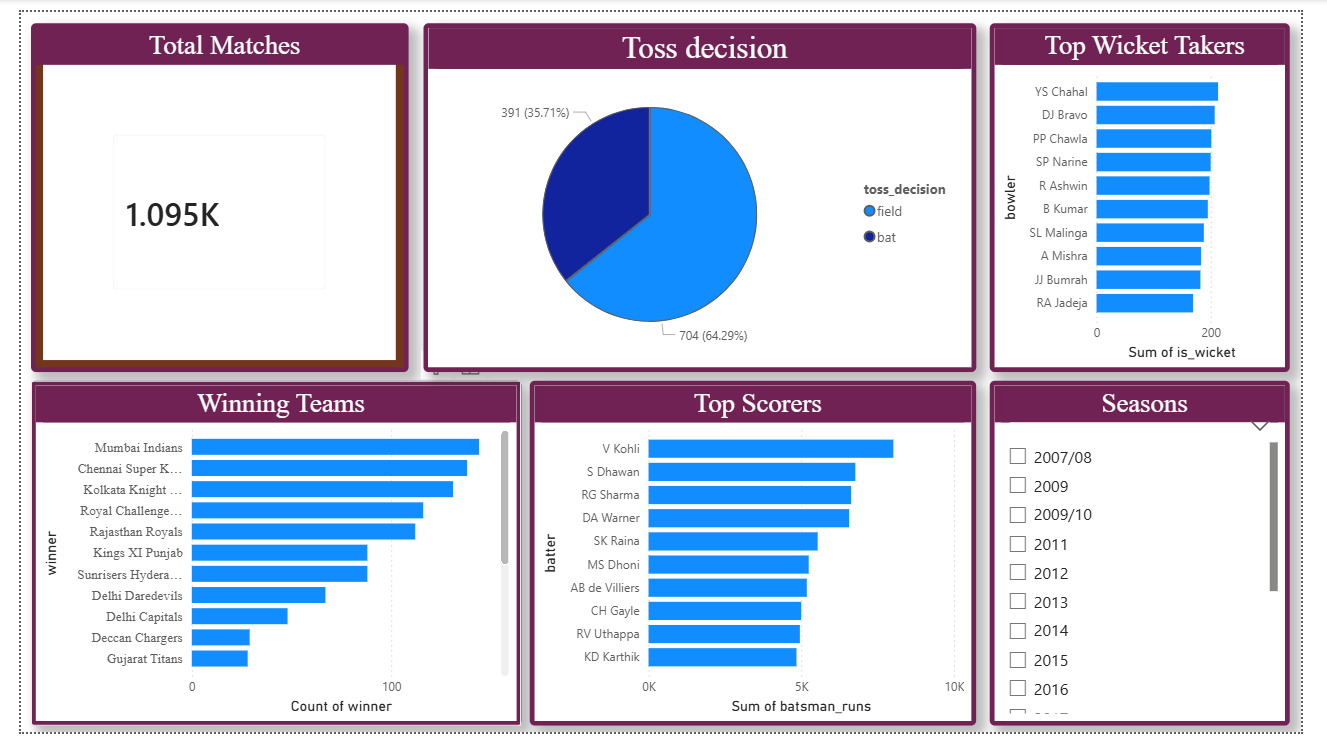

The dashboard page shown, as its layout file describes it:
{"tool":"powerbi","page":{"name":"Page 1","canvas":[1280,720],"ordinal":0},"visuals":[{"type":"cardVisual","title":"Total Matches","fields":{"Data":["CountNonNull(clean_matches.id)"]},"box":[10,11.2,377.5,348.8],"z":0},{"type":"clusteredBarChart","title":"Winning Teams","fields":{"Category":["clean_matches.winner"],"Y":["CountNonNull(clean_matches.winner)"]},"box":[10,368.8,490,345],"z":1},{"type":"pieChart","title":"Toss decision","fields":{"Category":["clean_matches.toss_decision"],"Y":["CountNonNull(clean_matches.toss_decision)"]},"box":[402.5,11.2,552.5,348.8],"z":2},{"type":"clusteredBarChart","title":"Top Scorers","fields":{"Category":["clean_deliveries.batter"],"Y":["Sum(clean_deliveries.batsman_runs)"]},"box":[508.8,368.8,446.2,345],"z":3},{"type":"clusteredBarChart","title":"Top Wicket Takers","fields":{"Category":["clean_deliveries.bowler"],"Y":["Sum(clean_deliveries.is_wicket)"]},"box":[968.8,11.2,300,348.8],"z":5},{"type":"slicer","title":"Seasons","fields":{"Values":["clean_matches.season"]},"box":[968.8,368.8,300,345],"z":6}]}

Visuals, with their boxes in screenshot pixels (x1, y1, x2, y2), scaled from the page's 1280x720 canvas onto the 1327x747 screenshot:
"Total Matches" cardVisual: [10, 12, 402, 374]
"Winning Teams" clusteredBarChart: [10, 383, 518, 741]
"Toss decision" pieChart: [417, 12, 990, 374]
"Top Scorers" clusteredBarChart: [527, 383, 990, 741]
"Top Wicket Takers" clusteredBarChart: [1004, 12, 1315, 374]
"Seasons" slicer: [1004, 383, 1315, 741]
